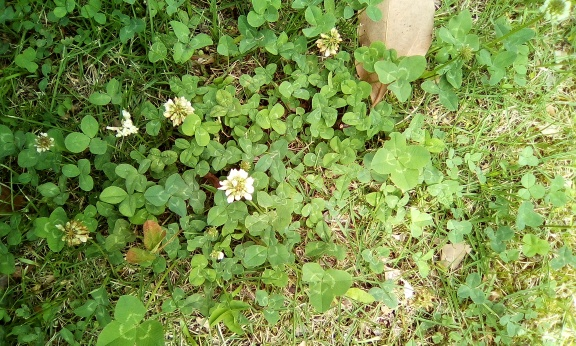4leaf: (371, 131, 430, 191)
